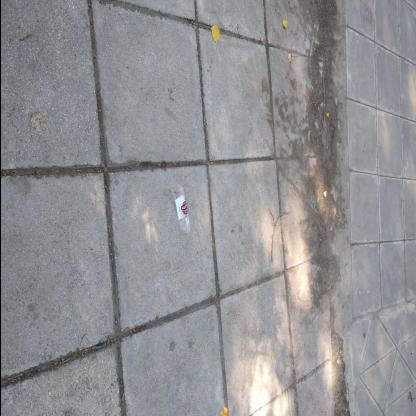plastik: (170, 184, 190, 234)
